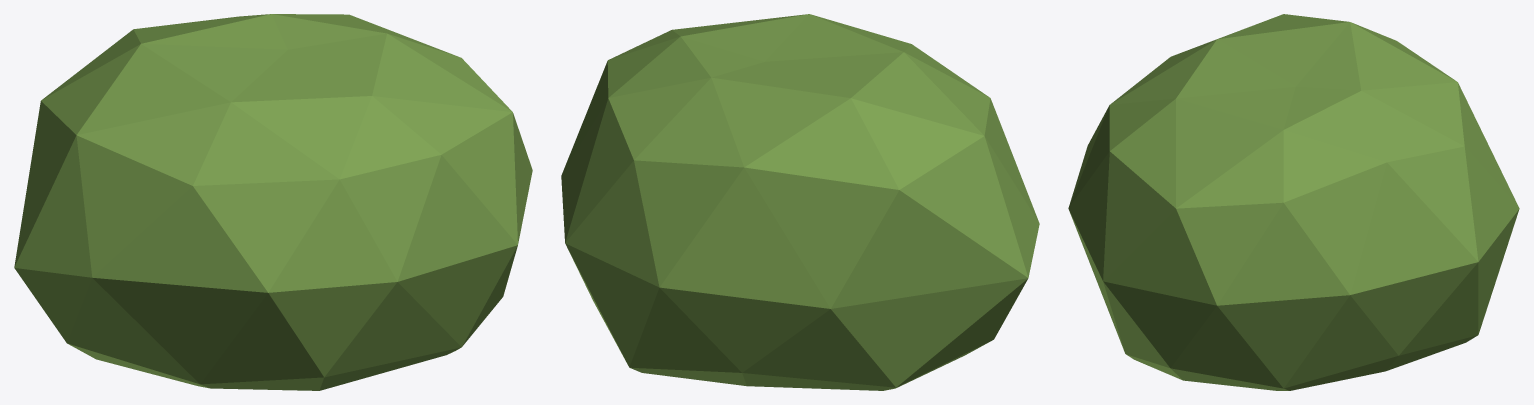
Rendered from bush2blank.glb.
3 views of the same model, side by side, from view 1: azimuth 30°, elevation 25°; view 2: azimuth 150°, elevation 25°; view 3: azimuth 270°, elevation 25° (orthographic). The views are drawn at different scales.
Visible parts, largest first — view 1: bush; view 2: bush; view 3: bush.
Boxes of the visible parts, bbox=[...] form: bush: bbox=[14, 14, 532, 390]; bush: bbox=[561, 14, 1039, 390]; bush: bbox=[1068, 14, 1519, 390].
Size of the model in its own units: 2.34 by 1.27 by 2.1.
